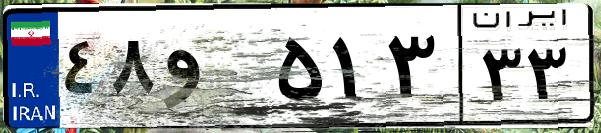1: (330, 28, 385, 110)
3: (385, 28, 445, 110), (475, 38, 525, 113), (525, 38, 570, 115)
4: (57, 26, 110, 100)
5: (270, 28, 330, 110)
8: (110, 28, 158, 98)
و: (158, 20, 270, 120)
